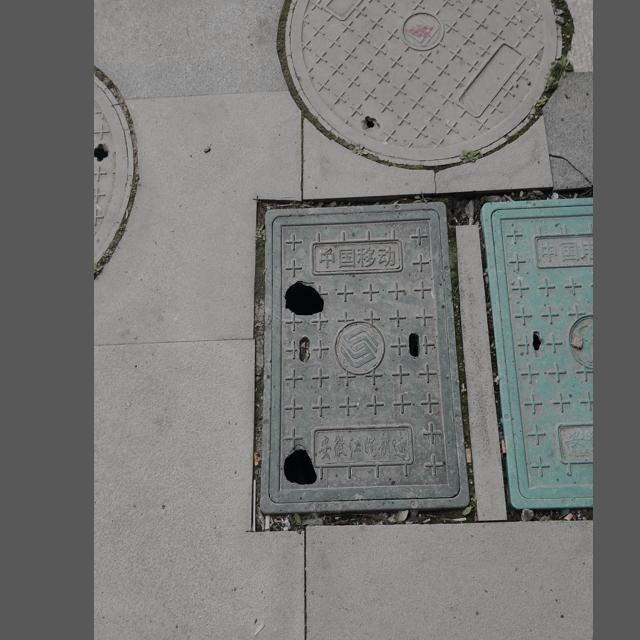broke: (259, 197, 471, 507), (284, 0, 564, 166), (478, 196, 593, 509), (95, 76, 132, 285)
